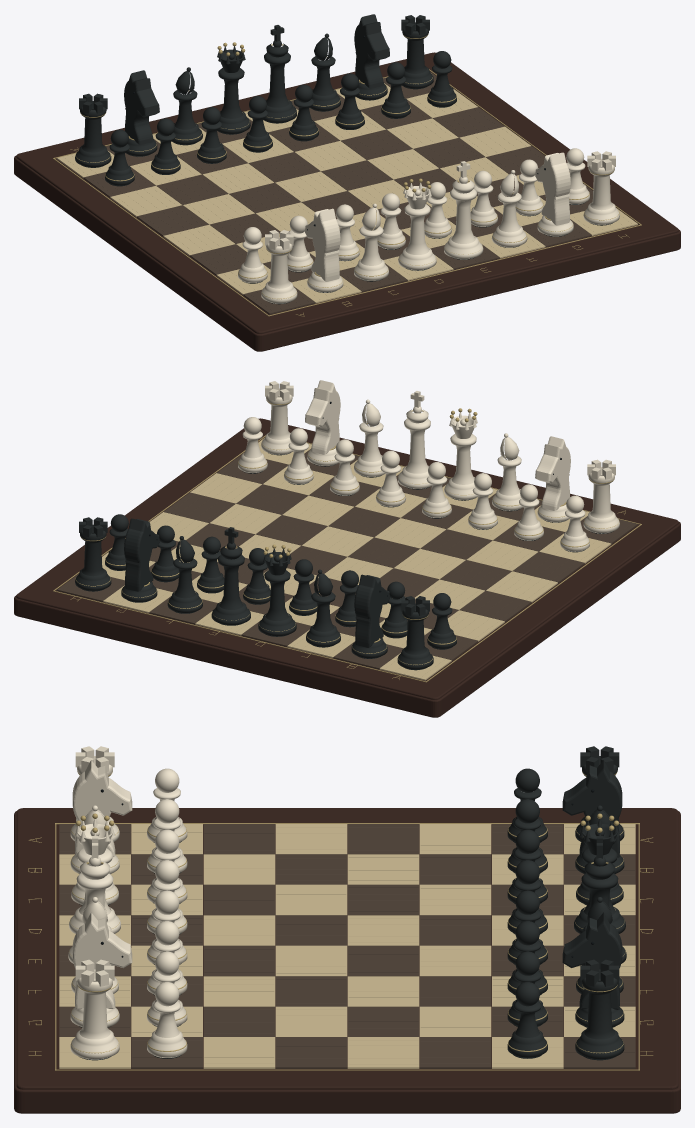
The model's file is ser-chess.glb.
3 renders of one model, top to bottom at view 1: azimuth 30°, elevation 25°; view 2: azimuth 150°, elevation 25°; view 3: azimuth 270°, elevation 25°, orthographic. The views are drawn at different scales.
Visible parts, largest first — view 1: Walnut top frame, Rounded walnut foundation, Sculpted knight profile (×4), Turned stem (×8), Turned base (×7), Rook tower (×4), Square a6, Square a4, Square a5, Square d6, Square e6, Square g6 (+38 smaller); view 2: Walnut top frame, Rounded walnut foundation, Sculpted knight profile (×4), Turned stem (×8), Turned base (×7), Rook tower (×4), Square a5, Square a3, Square a4, Square d3, Square c4, Square e4 (+38 smaller); view 3: Walnut top frame, Rounded walnut foundation, Sculpted knight profile (×4), Turned base (×4), Rook tower (×2), Turned stem (×4), Square h6, Square h5, Square h4, Square h3, Square c6, Square e6 (+60 smaller).
Boxes of the visible parts, x1,y1,x2,y2 form: Walnut top frame: [16, 52, 678, 333]; Rounded walnut foundation: [14, 156, 680, 351]; Sculpted knight profile (×4): [124, 14, 570, 281]; Turned stem (×8): [173, 52, 521, 265]; Turned base (×7): [75, 145, 619, 303]; Rook tower (×4): [80, 22, 614, 288]; Square a6: [110, 186, 182, 217]; Square a4: [163, 224, 235, 255]; Square a5: [137, 205, 208, 236]; Square d6: [248, 152, 320, 182]; Square e6: [295, 141, 366, 171]; Square g6: [386, 118, 458, 148]; Walnut top frame: [16, 418, 678, 699]; Rounded walnut foundation: [14, 522, 680, 717]; Sculpted knight profile (×4): [124, 380, 570, 647]; Turned stem (×8): [173, 418, 521, 631]; Turned base (×7): [75, 511, 619, 669]; Rook tower (×4): [80, 388, 614, 654]; Square a5: [459, 590, 531, 621]; Square a3: [512, 552, 584, 583]; Square a4: [486, 571, 557, 602]; Square d3: [374, 518, 446, 548]; Square c4: [394, 548, 465, 579]; Square e4: [302, 526, 373, 556]; Walnut top frame: [16, 808, 678, 1089]; Rounded walnut foundation: [14, 811, 680, 1113]; Sculpted knight profile (×4): [72, 760, 622, 1009]; Turned base (×4): [70, 1029, 624, 1059]; Rook tower (×2): [77, 969, 617, 1039]; Turned stem (×4): [76, 873, 618, 1037]; Square h6: [419, 1037, 491, 1068]; Square h5: [347, 1037, 419, 1068]; Square h4: [275, 1037, 347, 1068]; Square h3: [203, 1037, 275, 1068]; Square c6: [419, 884, 491, 915]; Square e6: [419, 945, 491, 976].
Size of the model in its own units: 0.4625 by 0.12 by 0.4625.
